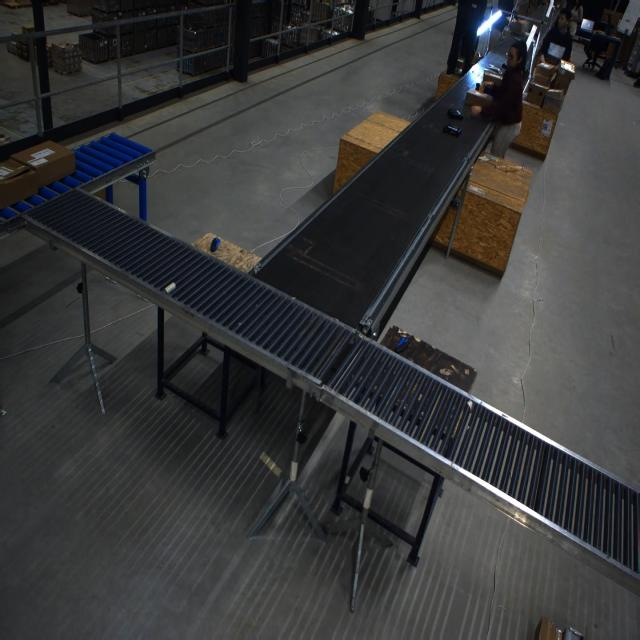box: (465, 86, 494, 116), (481, 69, 504, 88)
product: (443, 104, 462, 122), (442, 126, 463, 138)
